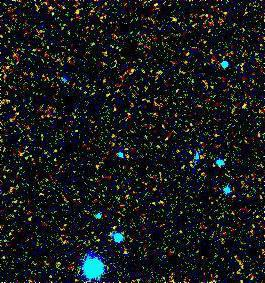star: (119, 55, 149, 85)
